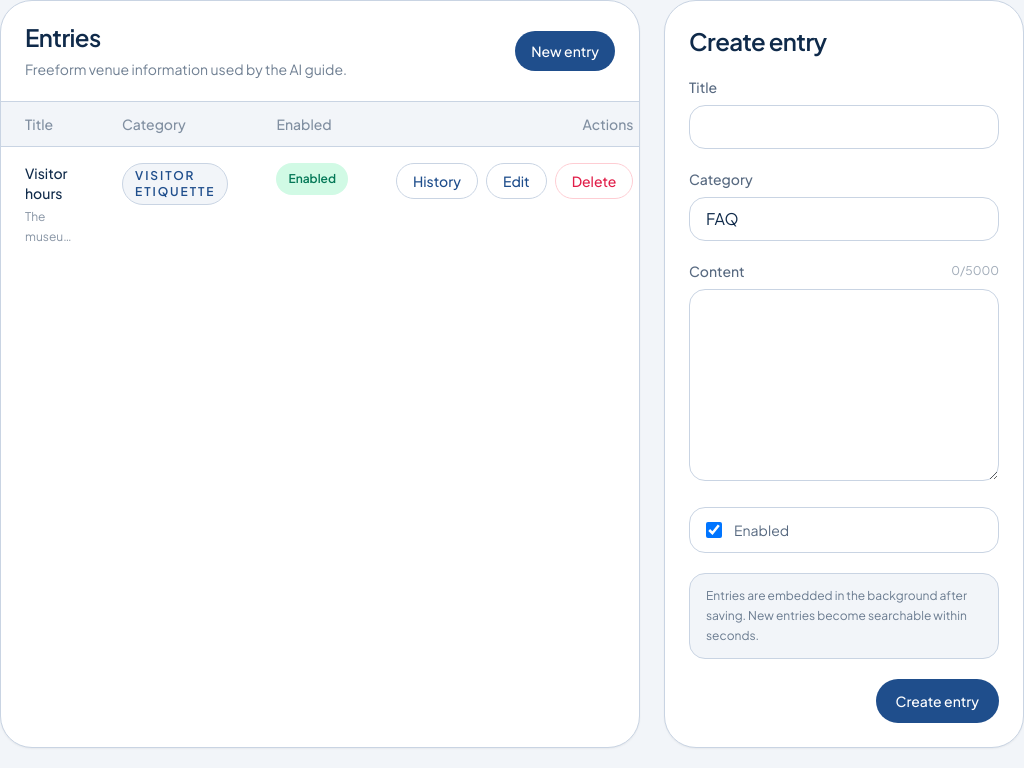
KnowledgeManager › fences duplicate enabled-state writes while the first update is pending
Click the button with aria-label "Disable Visitor hours": click(312, 179) [276,163,348,195]
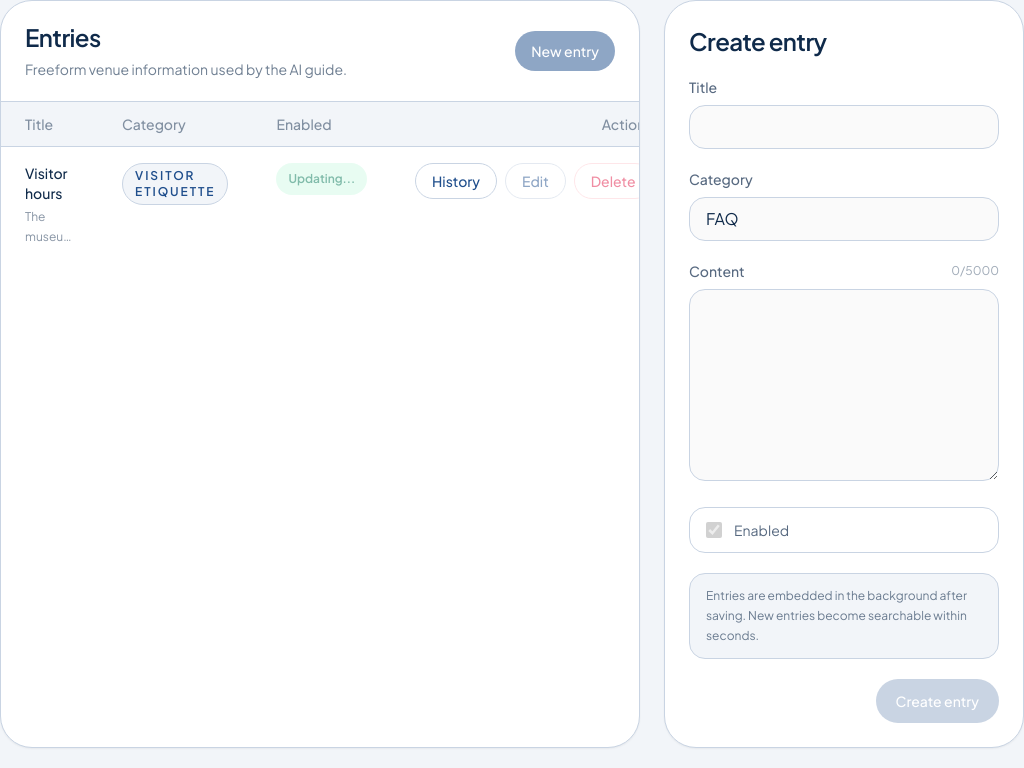
Expected: the button with aria-label "Updating Visitor hours" is disabled
Click the button with aria-label "Updating Visitor hours": click(322, 179) [276,163,367,195]
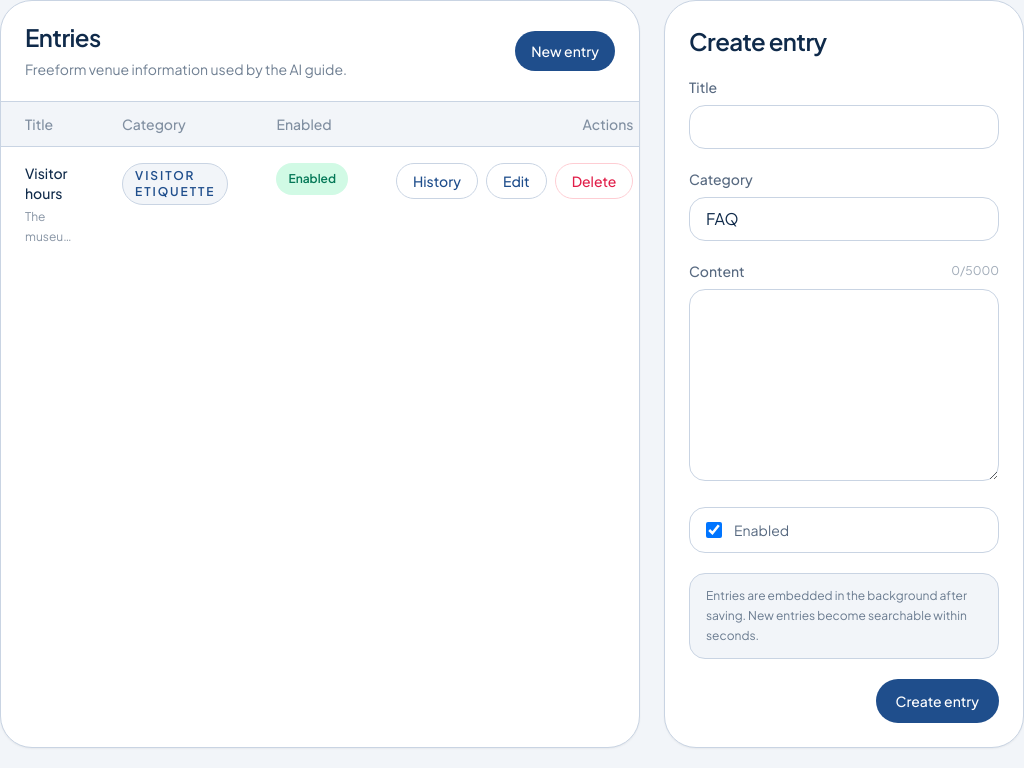
Expected: the button with aria-label "Disable Visitor hours" is enabled, [276,163,348,195]
